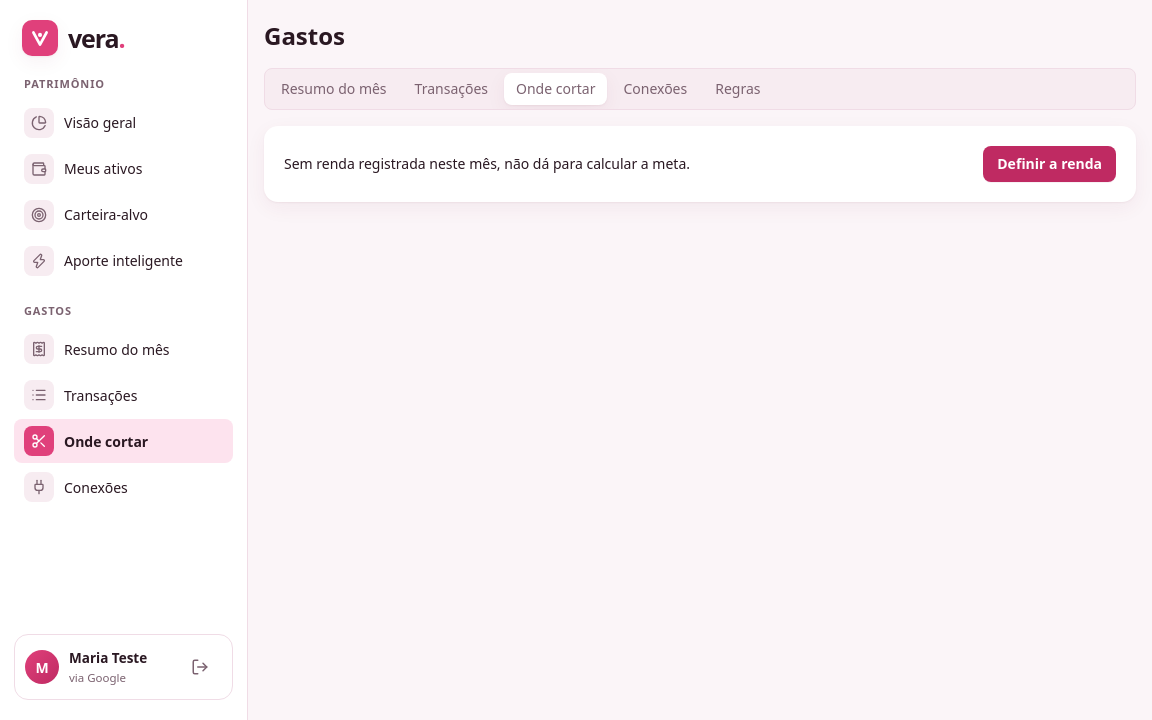
Scenario: CutsPage: status › sem renda: mostra o texto e o botão abre o diálogo da origem da renda
Expected: the text "Sem renda registrada neste mês, não dá para calcular a meta." is shown, [284,154,690,174]
Click the button "Definir a renda" at coordinates (1050, 164), box [983,146,1116,182]
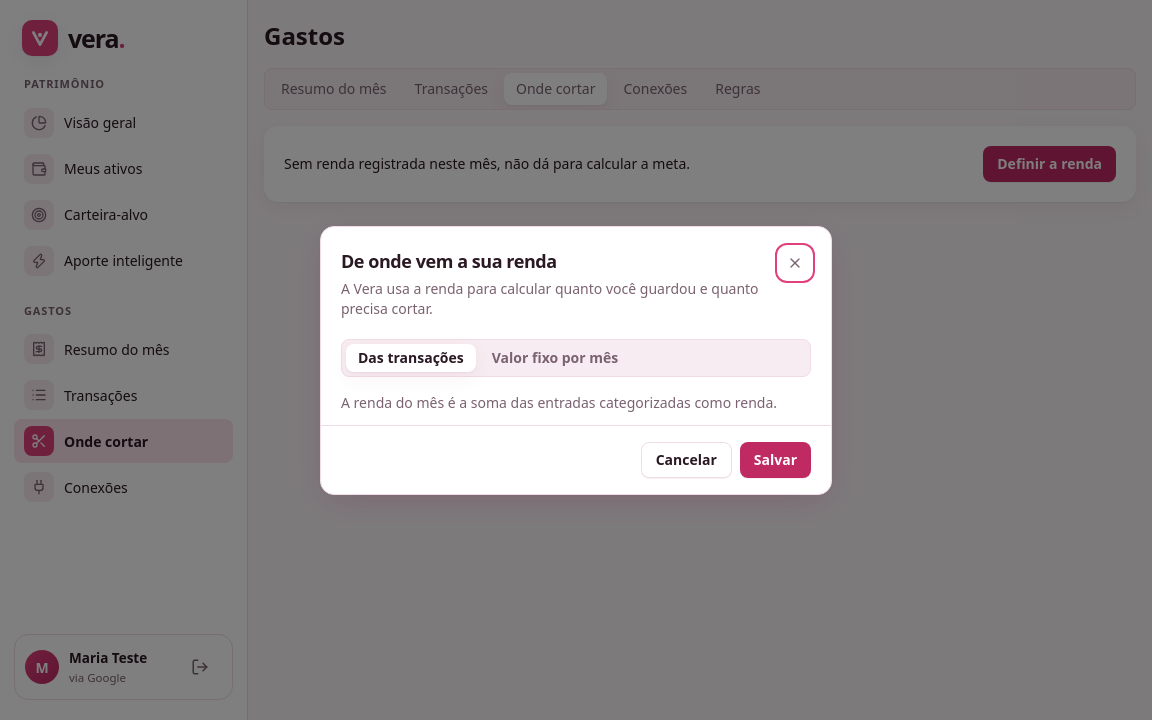
Expected: the element named "Origem da renda" is shown, [341,338,811,376]
